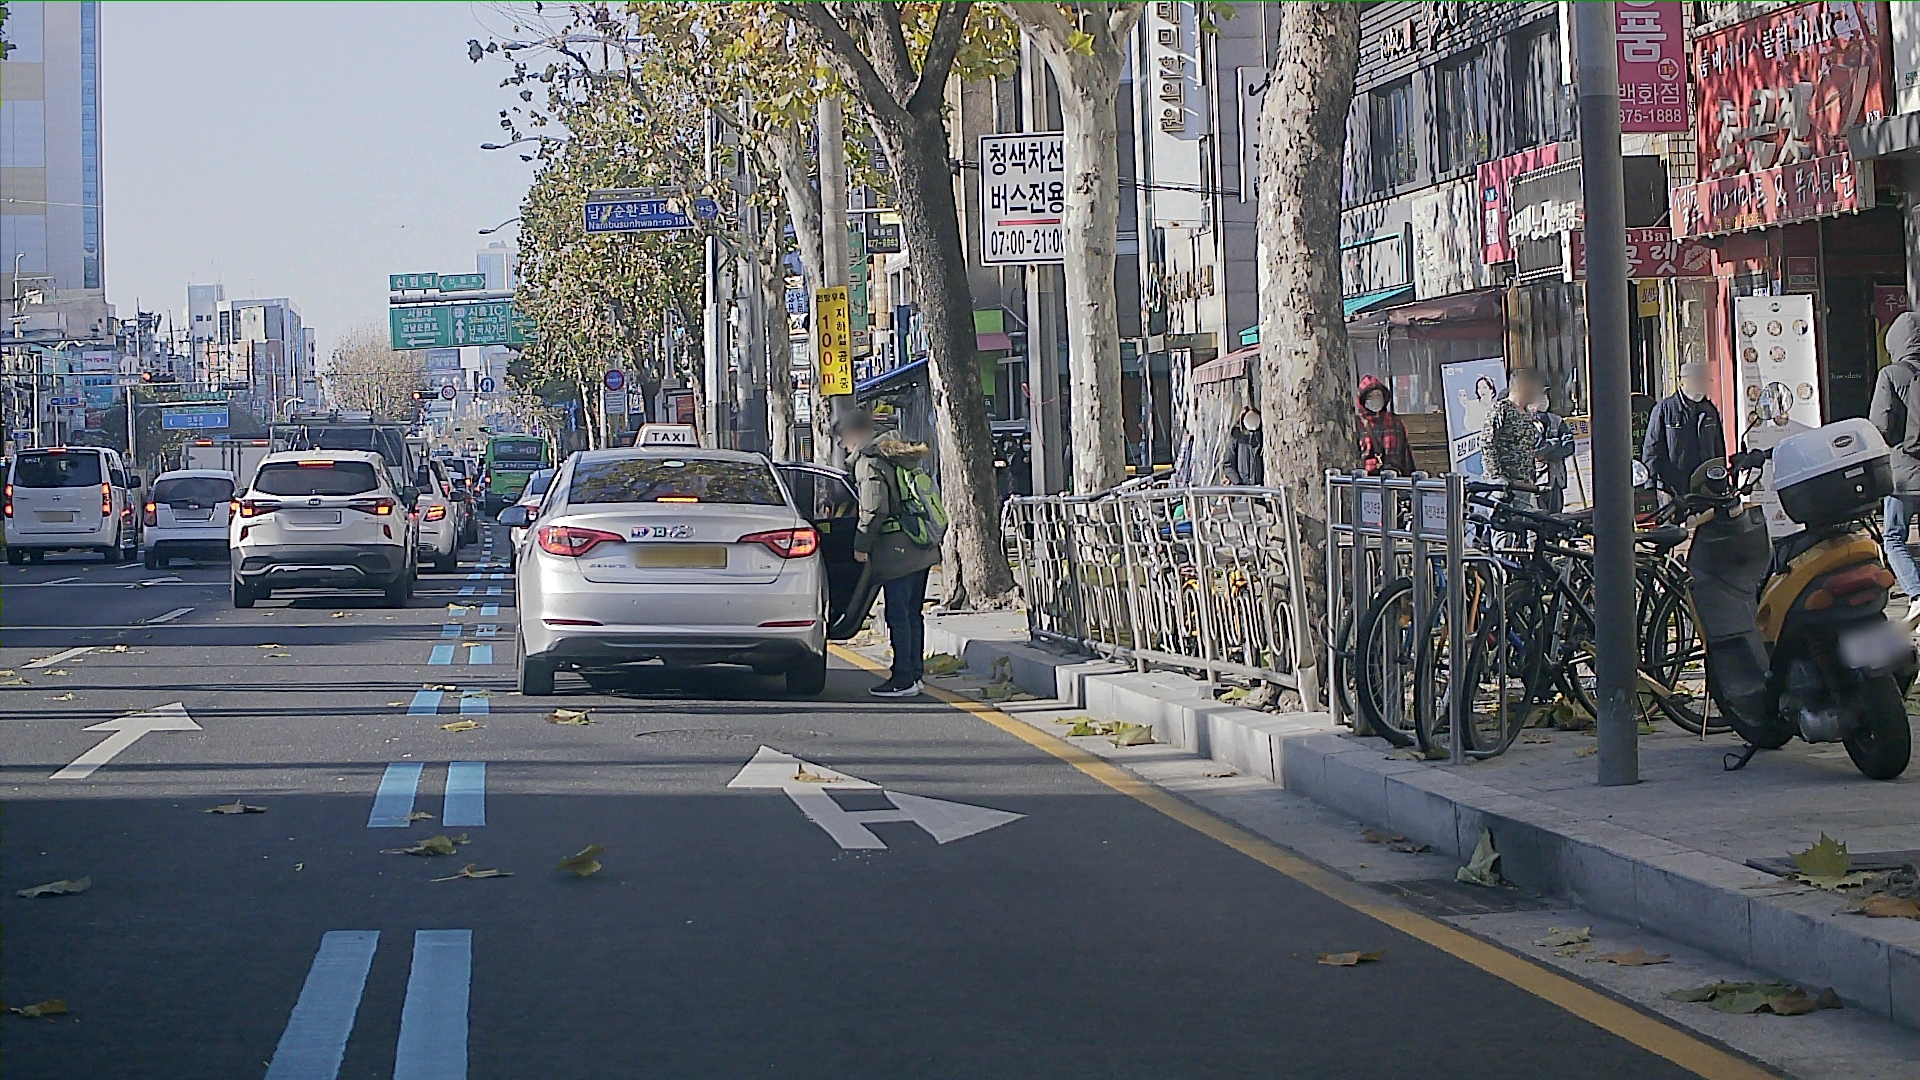trafficLight: (410, 392, 438, 398)
trafficSignCircle: (477, 380, 491, 393), (444, 385, 452, 401)
